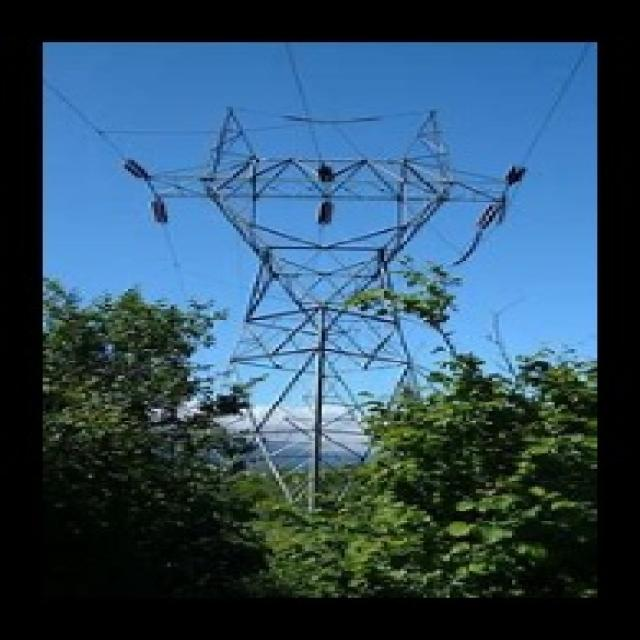utility poles: (342, 262, 513, 436), (141, 301, 292, 451)
